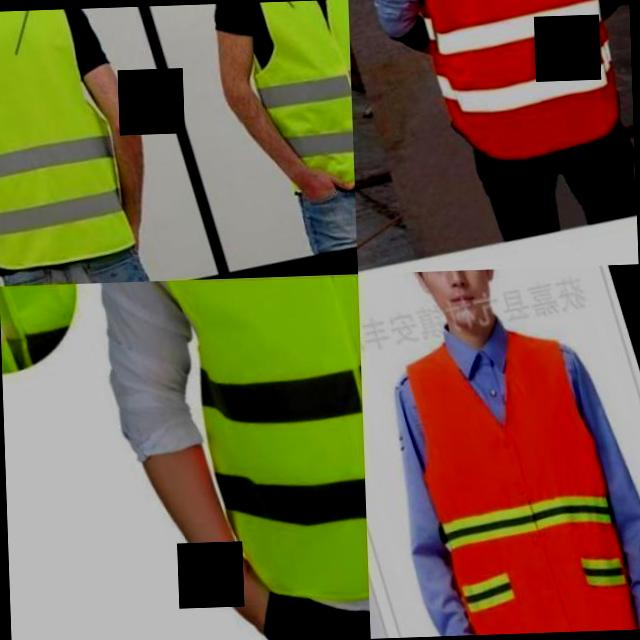vest: (375, 293, 640, 638), (112, 274, 370, 625), (383, 0, 635, 176), (0, 7, 129, 286), (224, 0, 355, 211)
